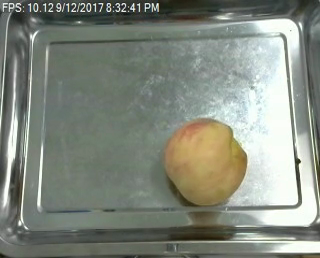Peach: (163, 117, 248, 205)
